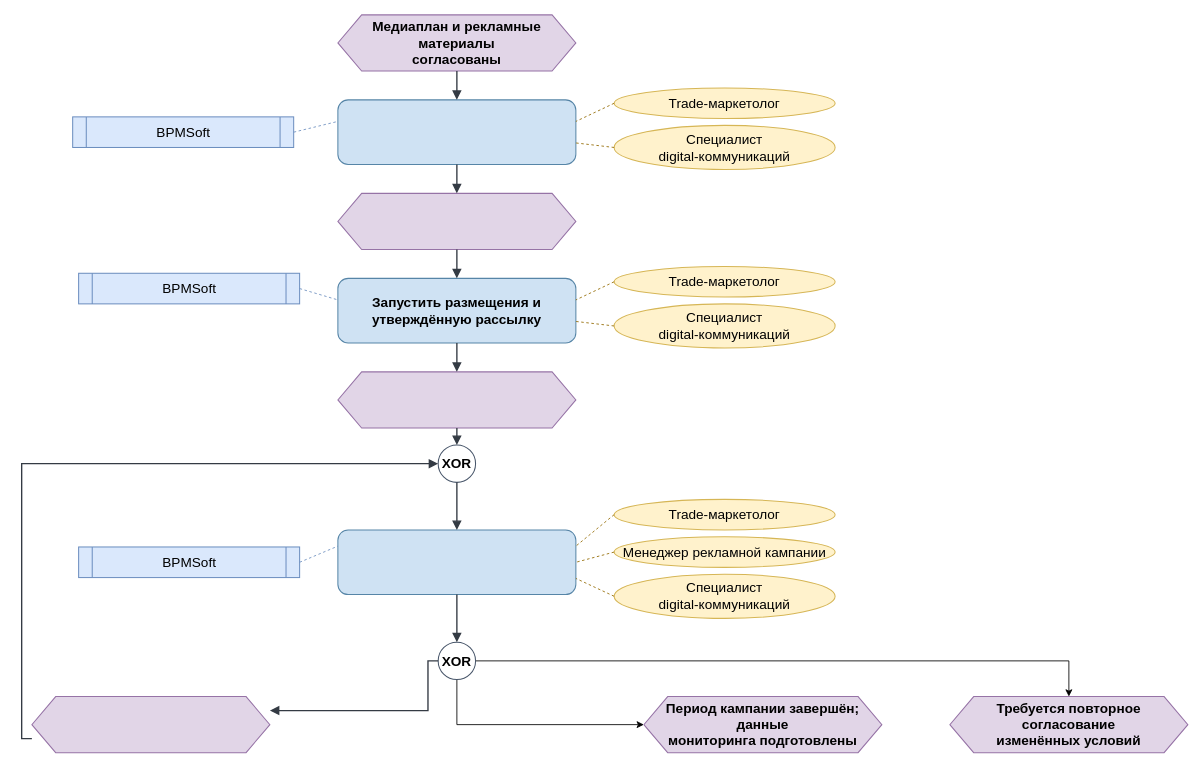
The diagram is 1204 pixels wide and 768 high, and some of its shapes have lost their labels. Each missing label, with the centre of its shape:
Запуск цифрового и розничного направлений подтверждён: point 456,399
Кампания продолжается; назначена очередная проверка: point 150,724
Контролировать и корректировать кампанию в BPMSoft: point 456,562
Подготовить каналы и проверить готовность в BPMSoft: point 456,132
Цифровые каналы и магазины готовы к запуску: point 456,221
